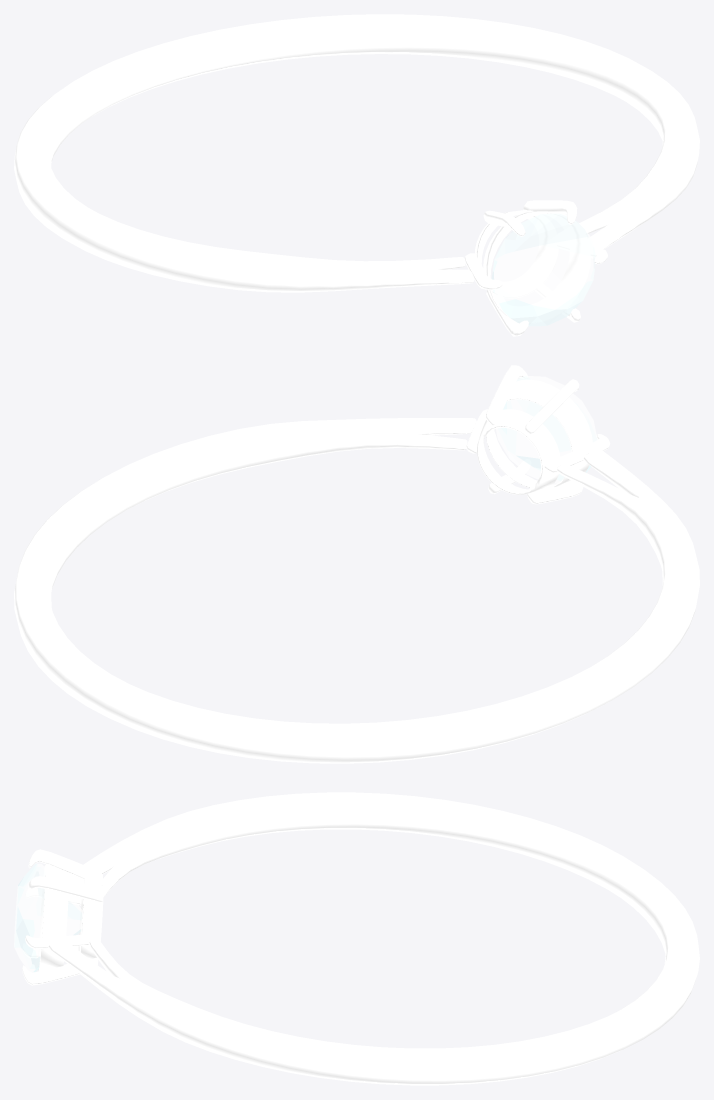
File: ring1.glb
The picture shows the model from 3 angles, top to bottom: view 1: azimuth 30°, elevation 25°; view 2: azimuth 150°, elevation 25°; view 3: azimuth 270°, elevation 25°; orthographic projection. The views are drawn at different scales.
Parts seen in each view (by area): view 1: 円.001, 円, Circle.001, Circle.002, 立方体.001, 立方体, 立方体.002; view 2: 円.001, Circle.001, 円, Circle.002, 立方体.001, 立方体, 立方体.002; view 3: 円.001, 円, Circle.001, 立方体.002, 立方体.001, Circle.002, 立方体.
Part boxes in pixels (x1,y1,x2,y2): 円.001: (14,14,699,292); 円: (491,213,595,326); Circle.001: (483,211,590,323); Circle.002: (475,210,558,298); 立方体.001: (486,200,577,336); 立方体: (464,236,607,289); 立方体.002: (483,210,580,322); 円.001: (14,418,699,763); Circle.001: (486,379,592,488); 円: (496,376,597,483); Circle.002: (477,409,560,494); 立方体.001: (485,365,583,504); 立方体: (466,409,610,472); 立方体.002: (488,379,579,494); 円.001: (48,792,699,1085); 円: (14,863,82,972); Circle.001: (38,864,69,971); 立方体.002: (22,849,102,985); 立方体.001: (23,876,102,958); Circle.002: (78,877,103,959); 立方体: (25,888,100,948).
Bounding box in the file's own units: 1.98 × 0.3741 × 2.14.
